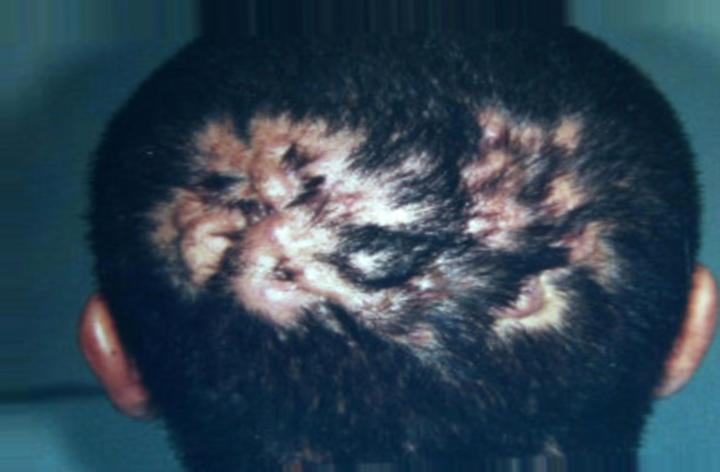Folliculitis: (174, 98, 600, 345)
